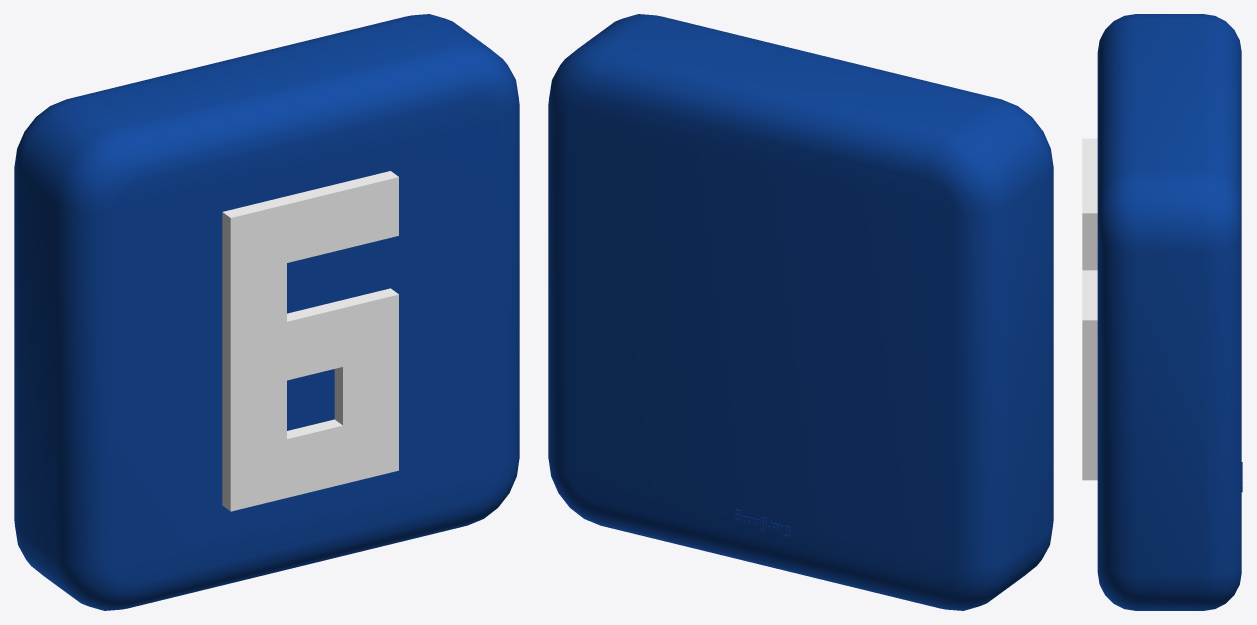
The model's file is keycap_6.glb.
The picture shows the model from 3 angles, left to right: view 1: azimuth 30°, elevation 25°; view 2: azimuth 150°, elevation 25°; view 3: azimuth 270°, elevation 25°; orthographic projection. The views are drawn at different scales.
Parts seen in each view (by area): view 1: Cube.6584; view 2: Cube.6584; view 3: Cube.6584.
Part boxes in pixels (left/top/right/bottom): Cube.6584: left=14, top=14, right=519, bottom=610; Cube.6584: left=548, top=14, right=1053, bottom=610; Cube.6584: left=1082, top=14, right=1242, bottom=610.
Size of the model in its own units: 2.2 by 2.2 by 0.7337.
1 material, 1 textured.
